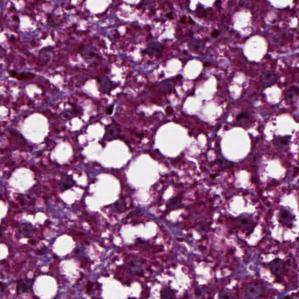steatosis: (154, 120, 190, 158), (16, 109, 54, 144), (218, 127, 252, 160)
